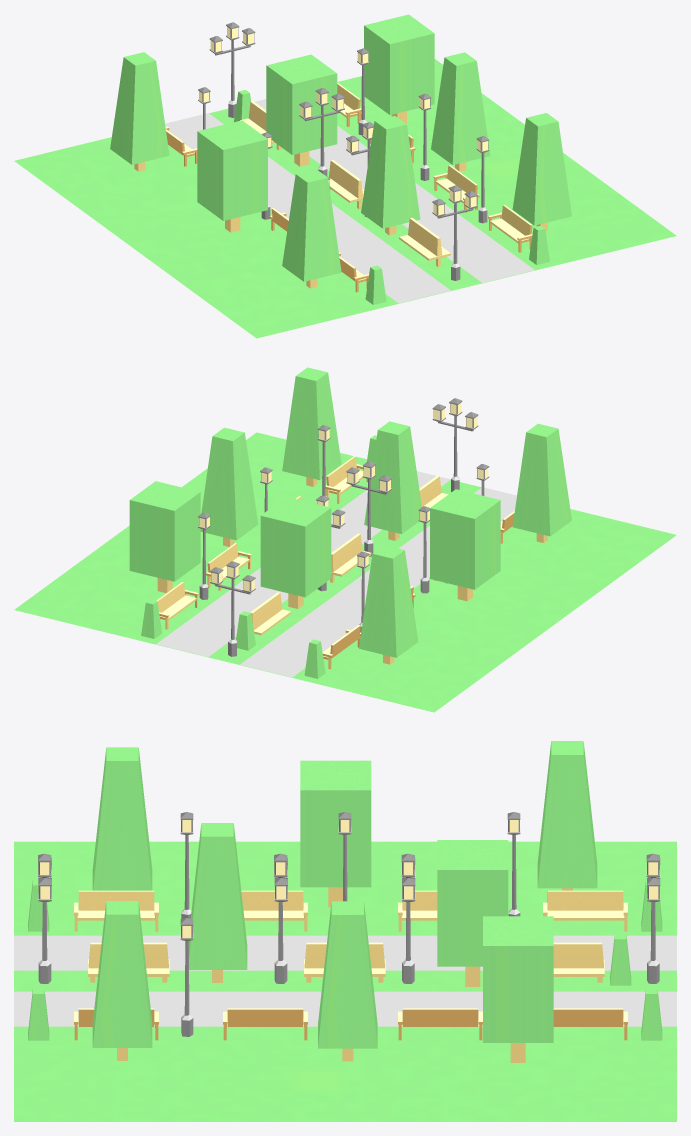
File: park.glb
3 renders of one model, top to bottom at view 1: azimuth 30°, elevation 25°; view 2: azimuth 150°, elevation 25°; view 3: azimuth 270°, elevation 25°, orthographic. The views are drawn at different scales.
Parts seen in each view (by area): view 1: park(Clone); view 2: park(Clone); view 3: park(Clone).
Part boxes in pixels (x1=…): park(Clone): x1=14, y1=14, x2=676, y2=338; park(Clone): x1=14, y1=367, x2=676, y2=712; park(Clone): x1=14, y1=741, x2=676, y2=1121.
Bounding box in the file's own units: 16 × 4.17 × 16.
1 material, 1 textured.
